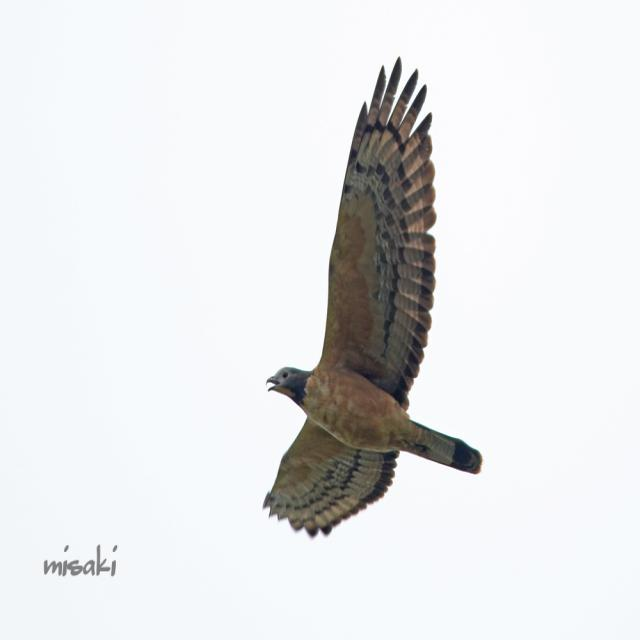bird: (248, 57, 495, 550)
